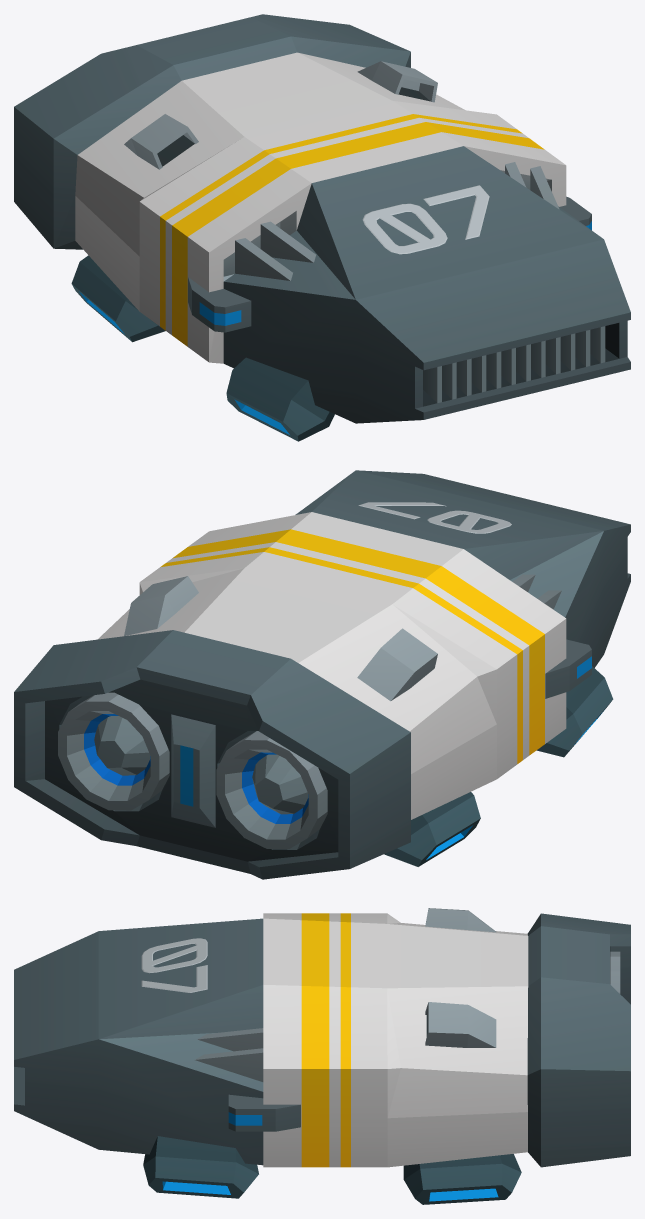
Rendered from Cargo_drone_003.fbx.
The picture shows the model from 3 angles, top to bottom: view 1: azimuth 30°, elevation 25°; view 2: azimuth 150°, elevation 25°; view 3: azimuth 270°, elevation 25°; orthographic projection. The views are drawn at different scales.
Visible parts, largest first — view 1: Cargo_drone_003; view 2: Cargo_drone_003; view 3: Cargo_drone_003.
Part boxes in pixels (<box>): Cargo_drone_003: <box>14,14,630,441</box>; Cargo_drone_003: <box>14,470,630,879</box>; Cargo_drone_003: <box>14,908,630,1204</box>.
Bounding box in the file's own units: 150 × 238 × 77.03.
